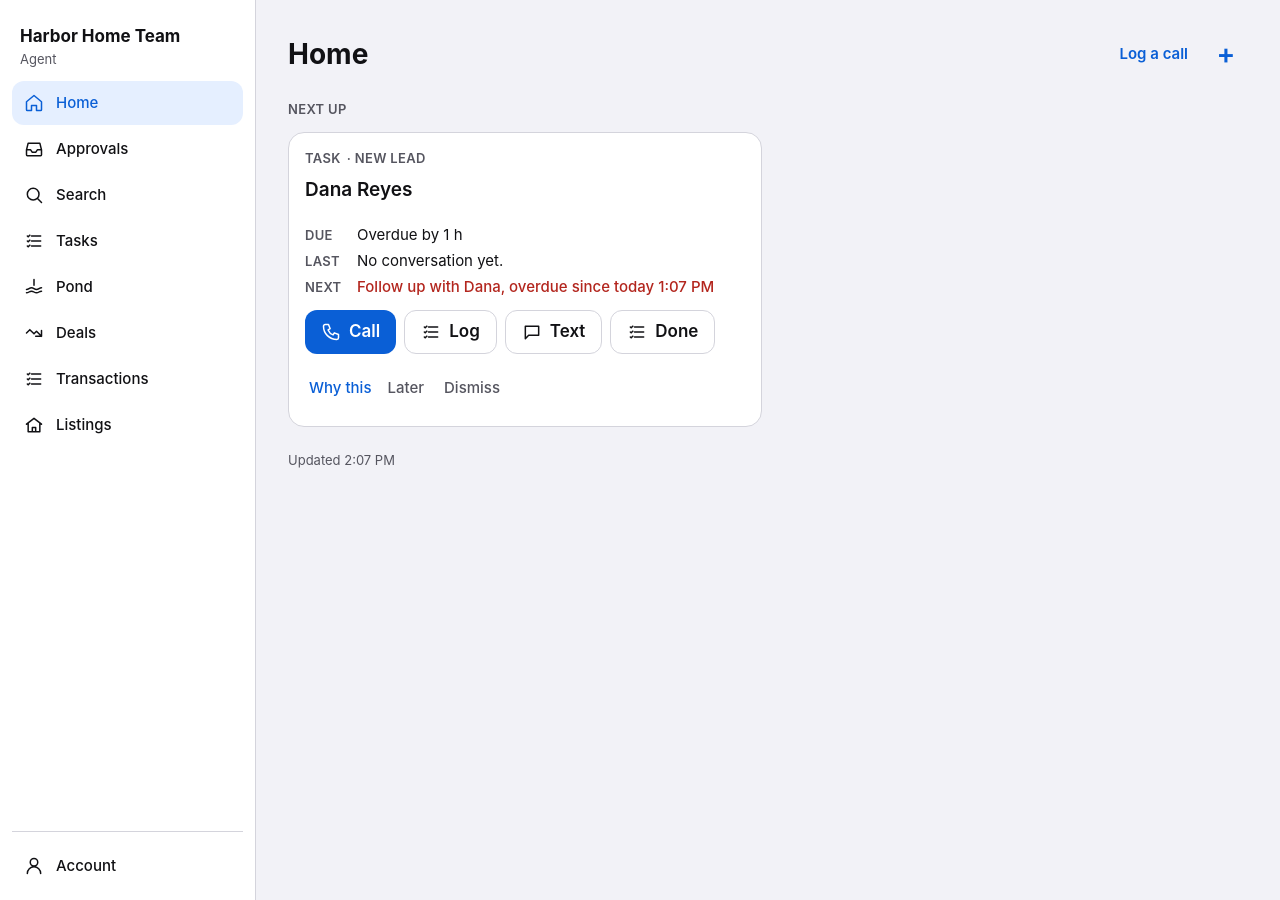
Test case: H1 (R-TODAY-11): what the tap will add and close is named in the pinned footer, beside the one button, before the tap › "None": nothing is added, so nothing is marked done, and the footer says neither
Click the button with aria-label "Log for Dana Reyes": (450, 332) x1=404 y1=310 x2=497 y2=354
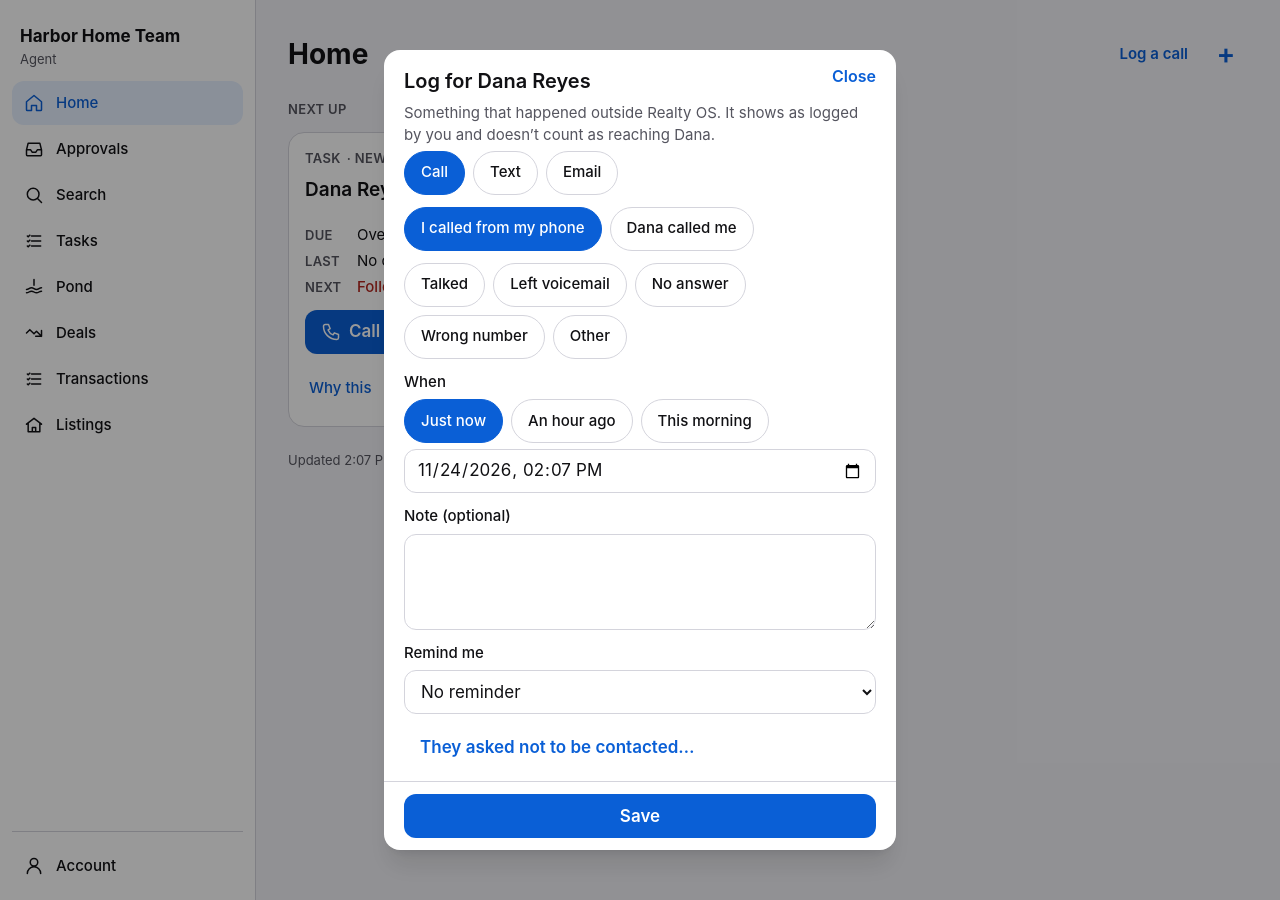
Click the button "Left voicemail": (560, 285) x1=493 y1=263 x2=627 y2=307
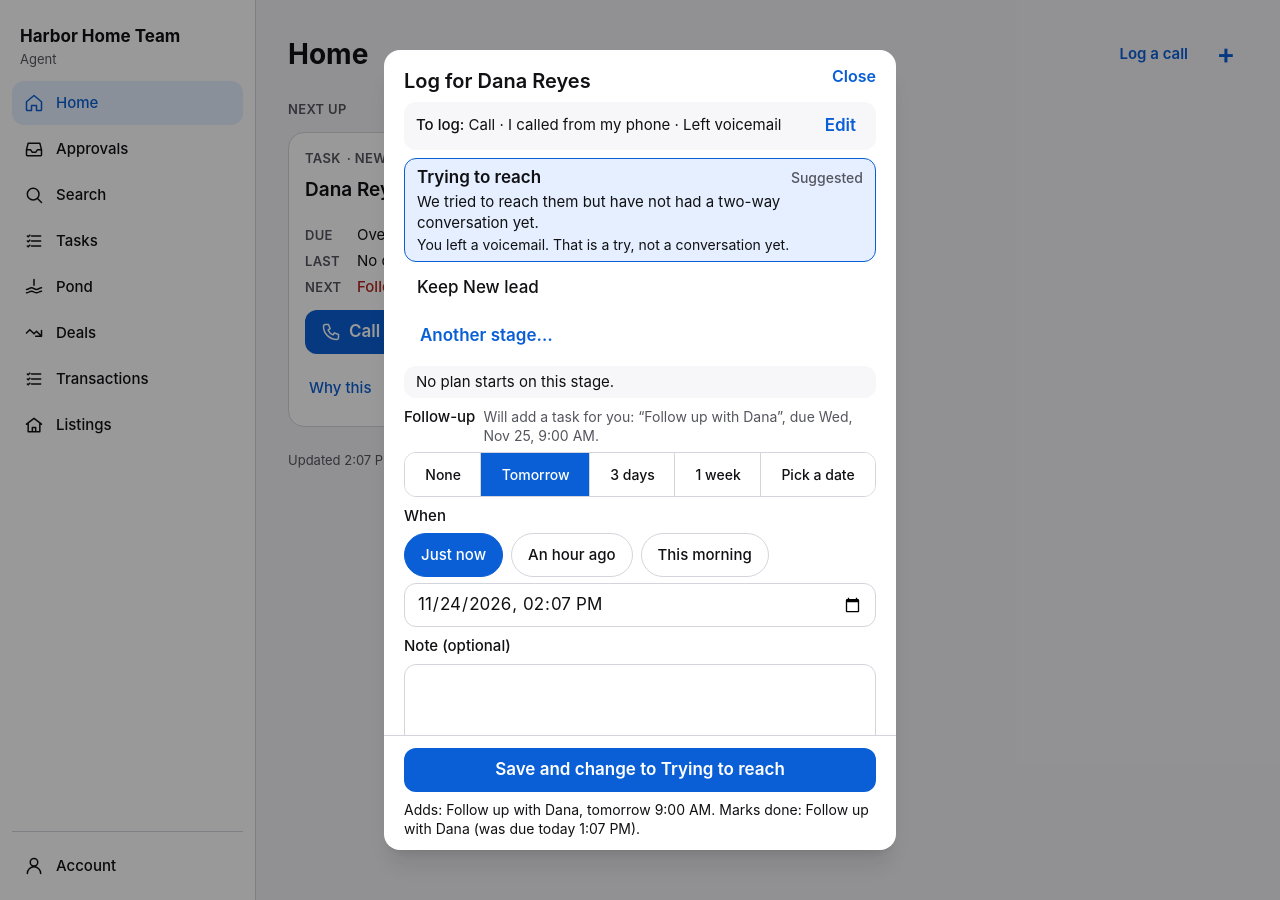
Check: the button with test id "log-save" is enabled, box x1=404 y1=748 x2=876 y2=792
Check: the radio button labelled "Suggested" is shown, box x1=404 y1=158 x2=876 y2=262
Click the button "None": (443, 474) x1=404 y1=452 x2=481 y2=496
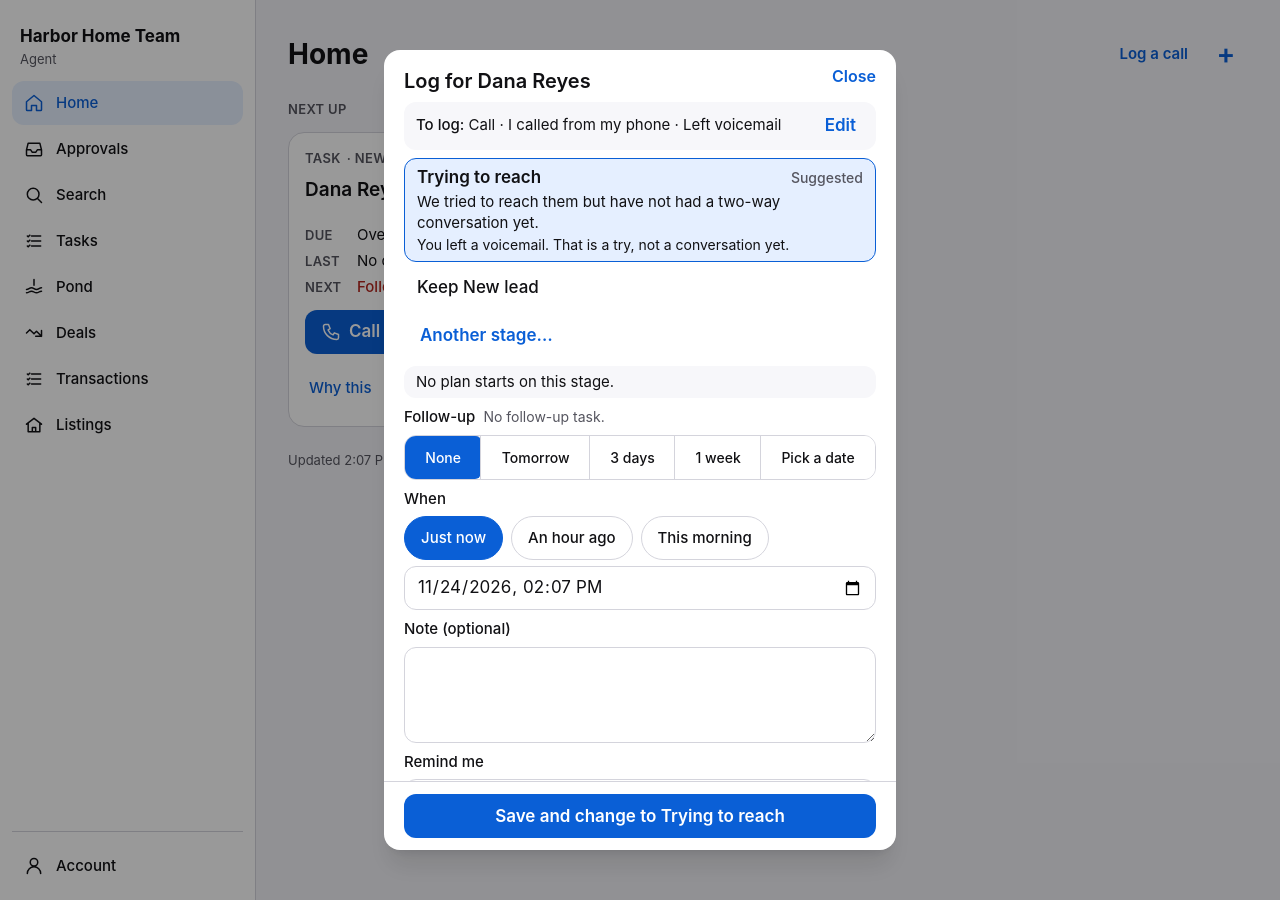
Check: the text with test id "tap-effects" is gone
Click the button with test id "log-save": (640, 816) x1=404 y1=794 x2=876 y2=838
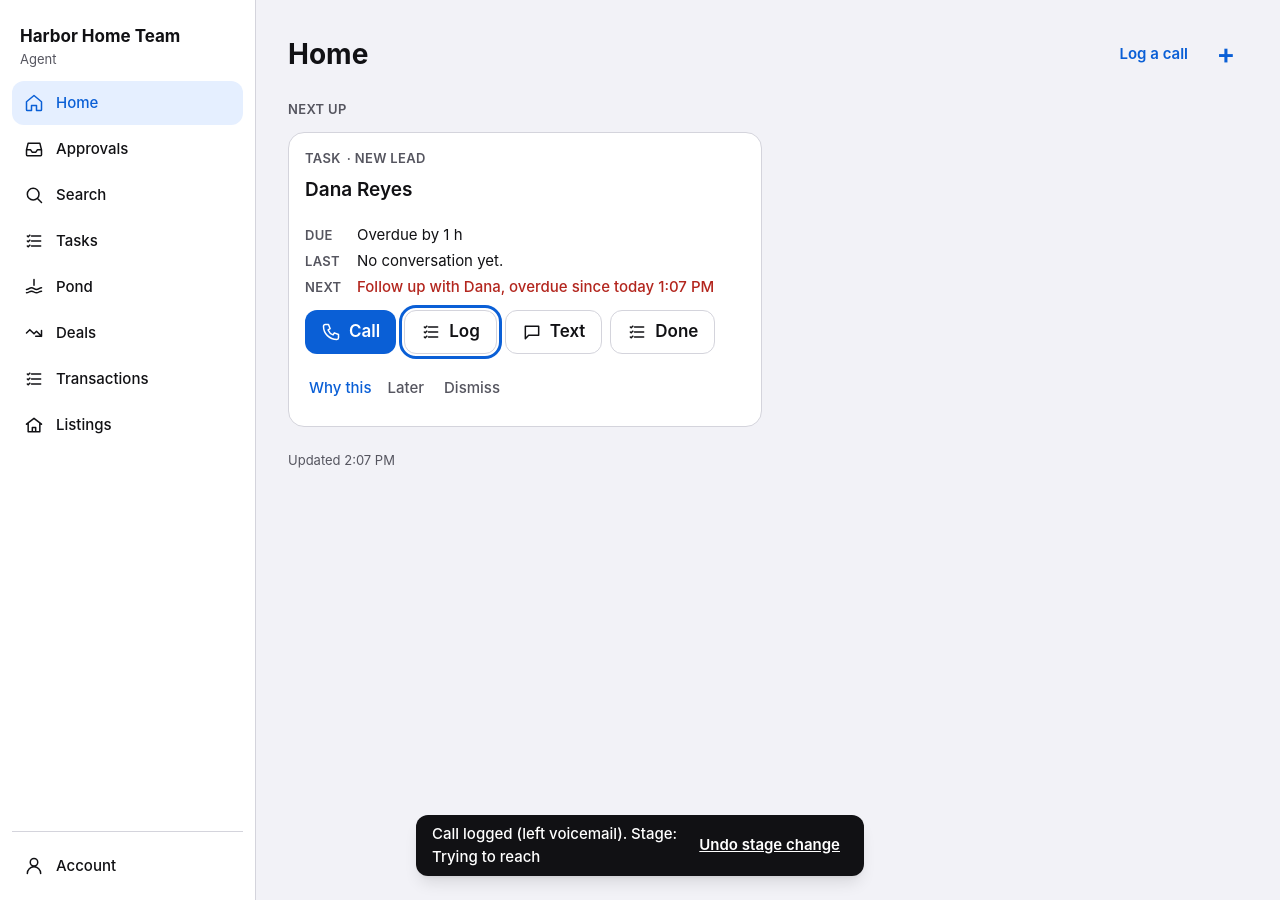
Check: the dialog is gone
